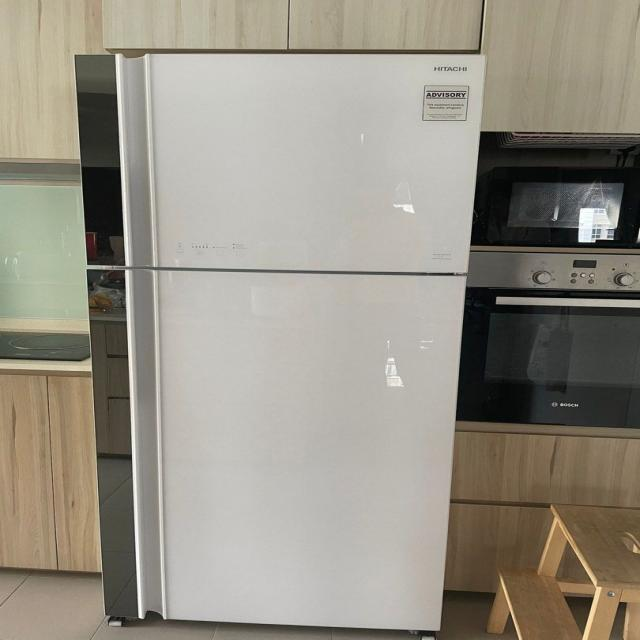refrigerator: (108, 48, 486, 640)
